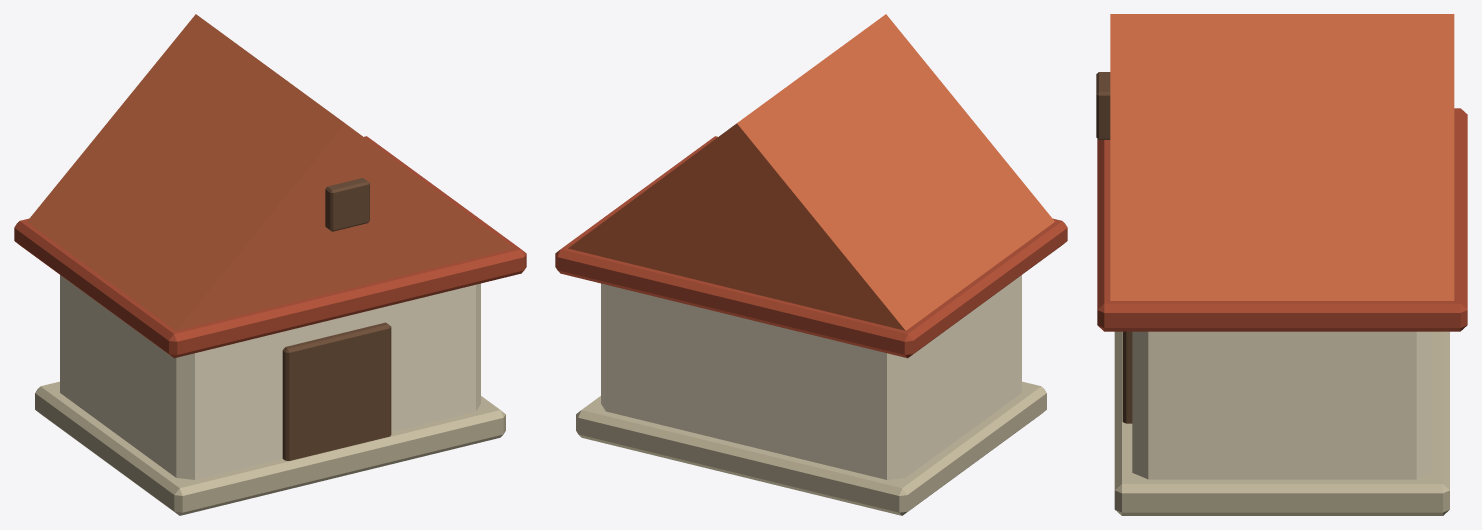
Rendered from ns-barn.glb.
3 renders of one model, left to right at view 1: azimuth 30°, elevation 25°; view 2: azimuth 150°, elevation 25°; view 3: azimuth 270°, elevation 25°, orthographic. The views are drawn at different scales.
Parts seen in each view (by area): view 1: Cube; view 2: Cube; view 3: Cube.
Part boxes in pixels (x1,y1,x2,y2): Cube: [14, 14, 526, 515]; Cube: [555, 14, 1067, 515]; Cube: [1096, 14, 1467, 515].
Size of the model in its own units: 0.54 by 0.515 by 0.421.
